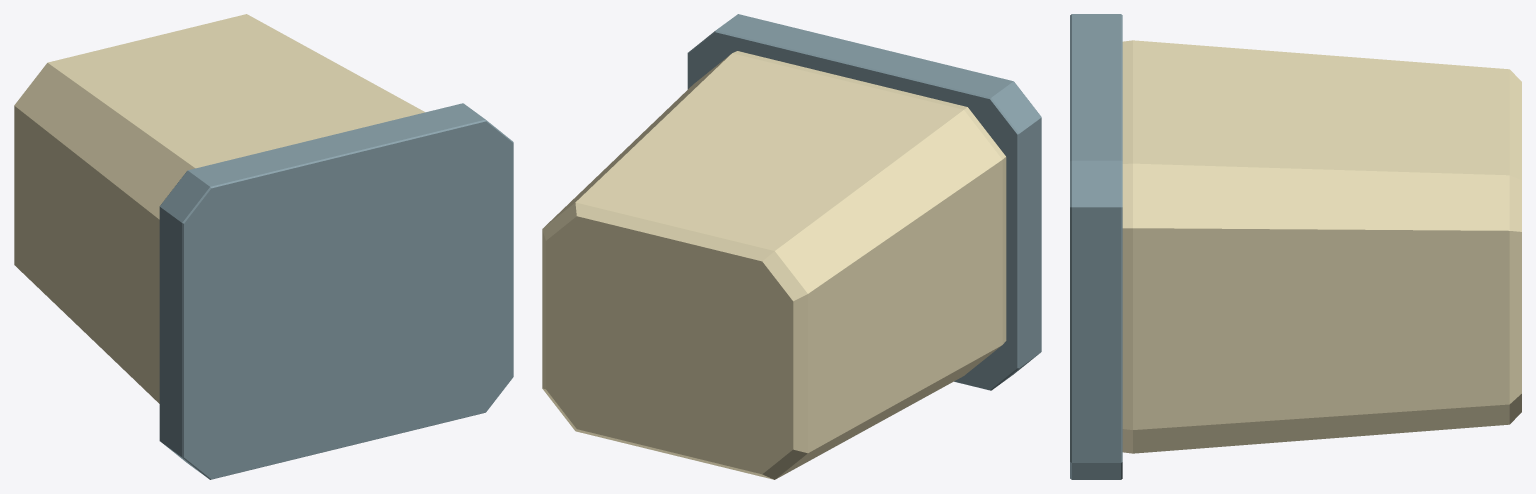
File: ice_cream_tub.glb
3 renders of one model, left to right at view 1: azimuth 30°, elevation 25°; view 2: azimuth 150°, elevation 25°; view 3: azimuth 270°, elevation 25°, orthographic. The views are drawn at different scales.
Visible parts, largest first — view 1: ice_cream_tub; view 2: ice_cream_tub; view 3: ice_cream_tub.
Part boxes in pixels (bbox=[...]): ice_cream_tub: bbox=[14, 14, 513, 479]; ice_cream_tub: bbox=[542, 14, 1041, 479]; ice_cream_tub: bbox=[1070, 14, 1521, 479].
Size of the model in its own units: 0.103 by 0.087 by 0.1115.
